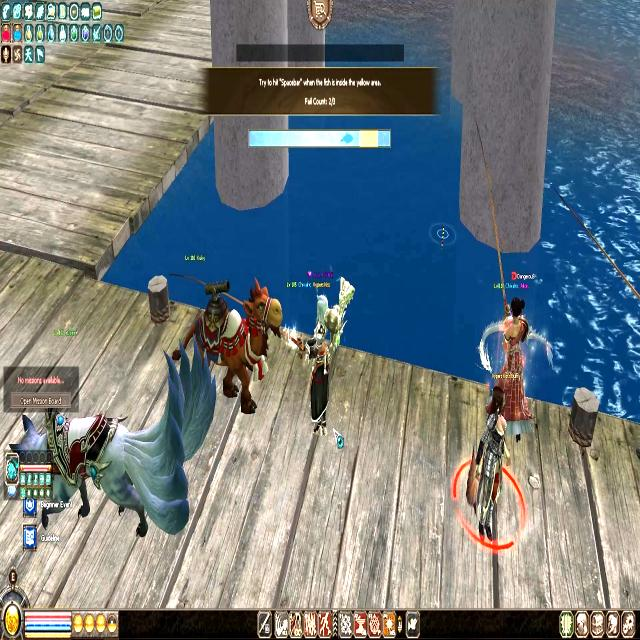fishes: (340, 131, 352, 146)
